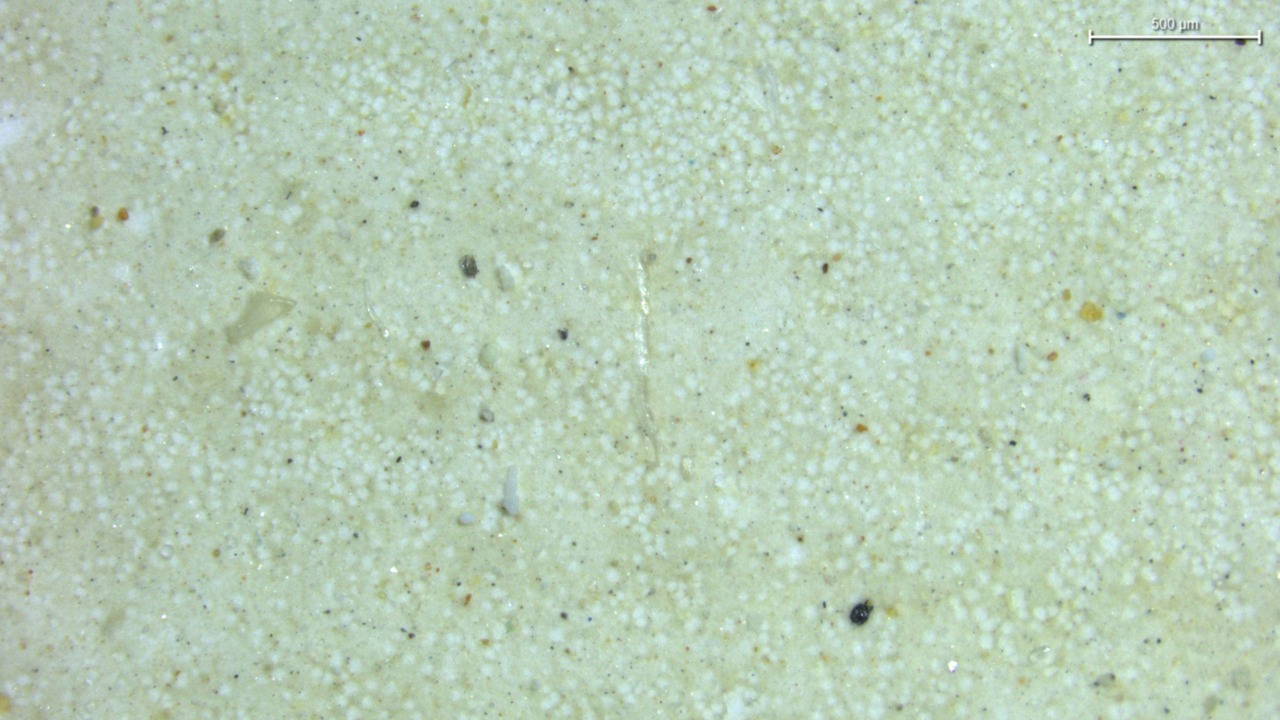microplastic_fragment: (226, 291, 295, 343), (501, 468, 520, 516), (458, 513, 474, 524)
